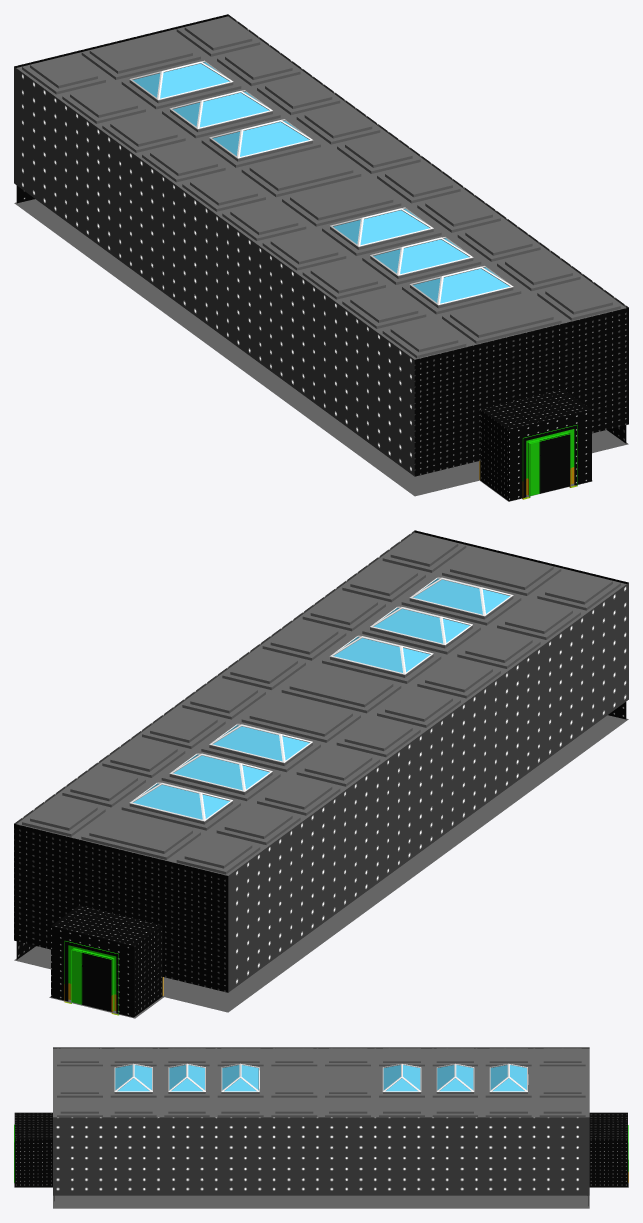
Rendered from CombinedMesh-MeshBaker (4)-mesh.fbx.
3 renders of one model, top to bottom at view 1: azimuth 30°, elevation 25°; view 2: azimuth 150°, elevation 25°; view 3: azimuth 270°, elevation 25°, orthographic. The views are drawn at different scales.
Parts seen in each view (by area): view 1: MeshBaker__4__mesh_mesh; view 2: MeshBaker__4__mesh_mesh; view 3: MeshBaker__4__mesh_mesh.
Boxes of the visible parts, x1,y1,x2,y2 form: MeshBaker__4__mesh_mesh: [14, 14, 628, 501]; MeshBaker__4__mesh_mesh: [14, 530, 628, 1018]; MeshBaker__4__mesh_mesh: [14, 1047, 628, 1208].
Size of the model in its own units: 1000 by 697 by 3715.
